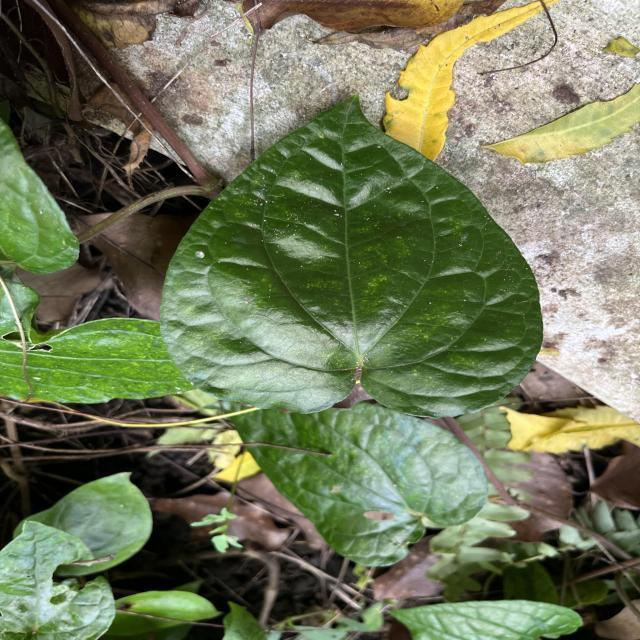Piper betle: (156, 89, 550, 423)
